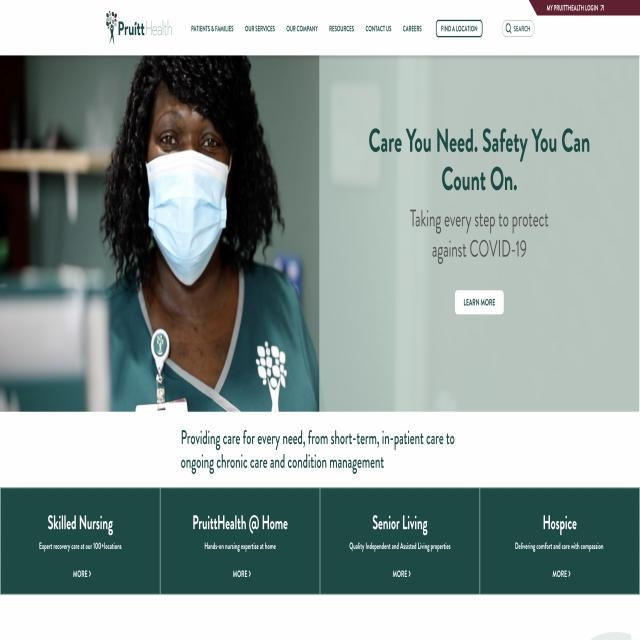Logo: (98, 0, 176, 51)
Navigation: (182, 5, 492, 44)
